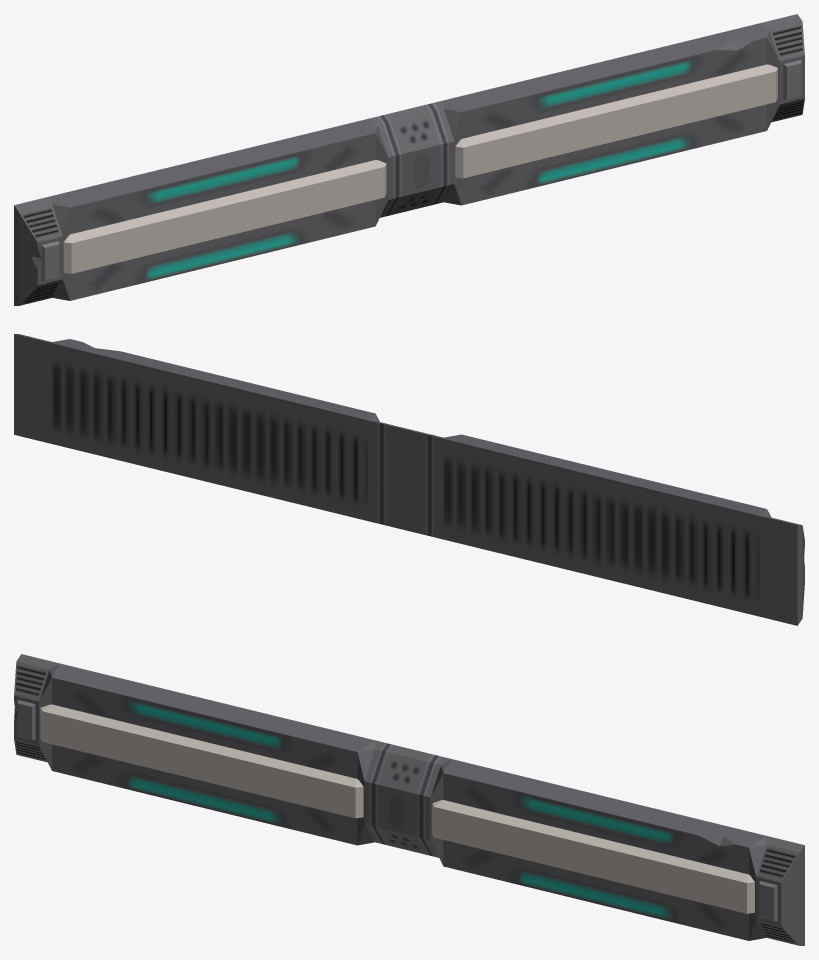
Rendered from SM_Prop_Street_light_02.fbx.
3 views of the same model, one above another, from view 1: azimuth 30°, elevation 25°; view 2: azimuth 150°, elevation 25°; view 3: azimuth 330°, elevation 25° (orthographic).
Parts seen in each view (by area): view 1: SM_Prop_Street_light_02; view 2: SM_Prop_Street_light_02; view 3: SM_Prop_Street_light_02.
Part boxes in pixels (<box>): SM_Prop_Street_light_02: <box>14,14,804,305</box>; SM_Prop_Street_light_02: <box>14,334,804,625</box>; SM_Prop_Street_light_02: <box>14,654,804,945</box>.
Bounding box in the file's own units: 199 × 24.46 × 8.05.
